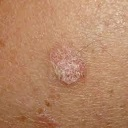Actinic: (50, 52, 85, 86)
